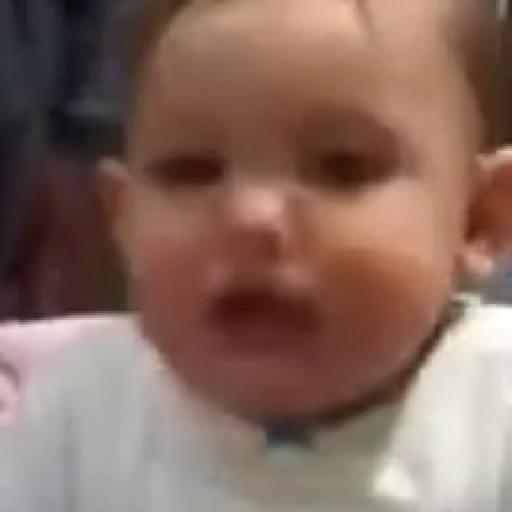Autism: (141, 7, 512, 401)
